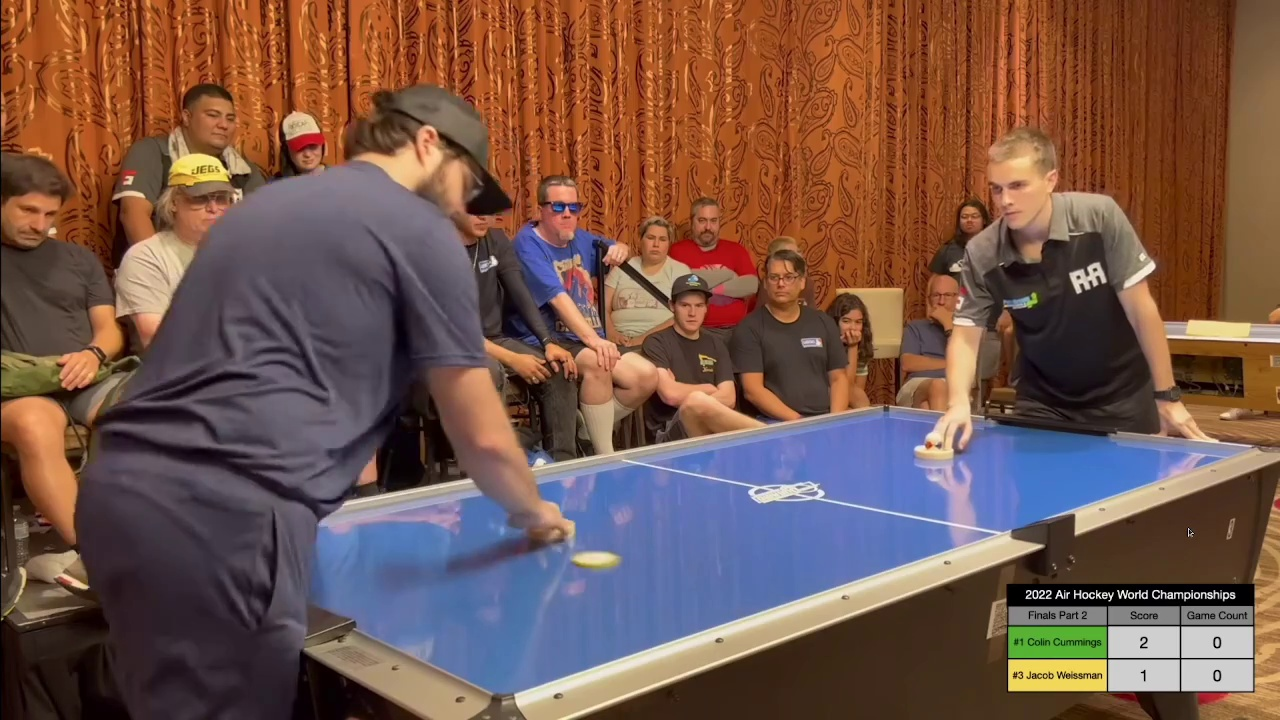player: (534, 501, 578, 543), (912, 431, 955, 462)
puck: (571, 548, 622, 571)
table: (231, 402, 1268, 701)
